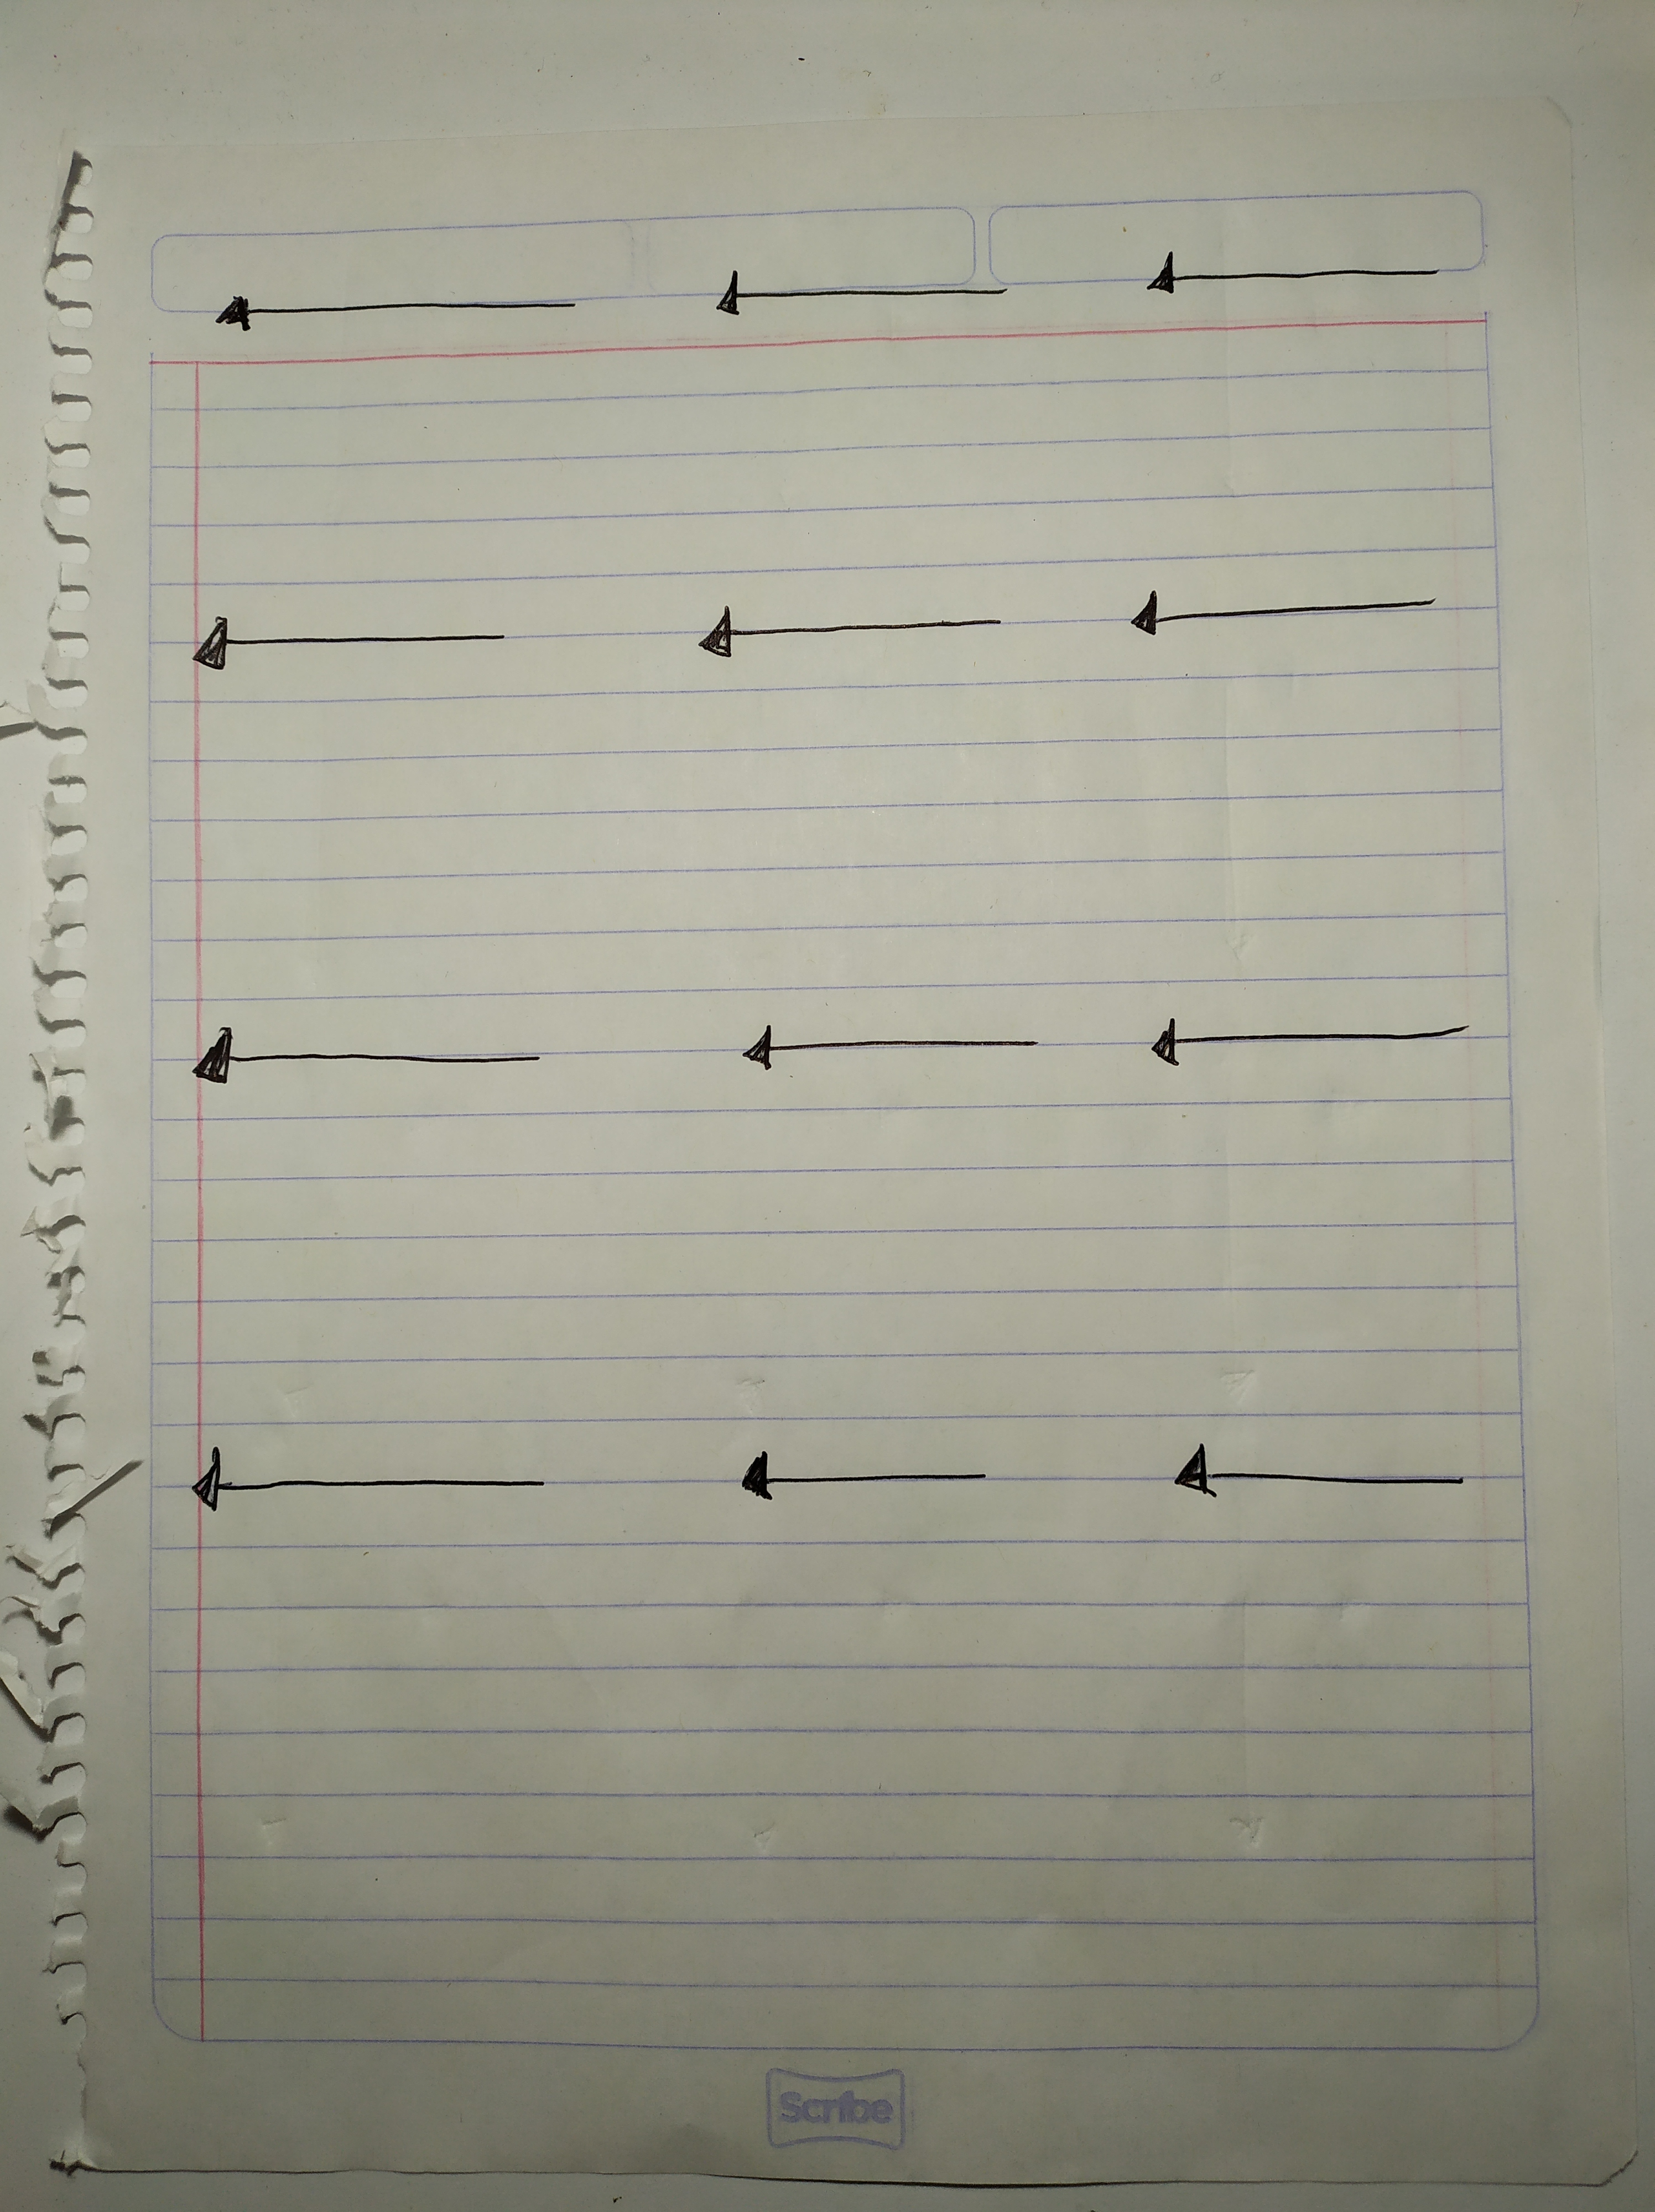arrow_line_left: (158, 1442, 579, 1533), (158, 1017, 560, 1103), (1127, 1006, 1495, 1083), (1120, 238, 1471, 315), (1153, 1434, 1486, 1513), (169, 605, 528, 678), (1106, 580, 1457, 653), (688, 250, 1038, 323), (193, 278, 586, 342), (713, 1013, 1078, 1081), (715, 1435, 1007, 1519), (675, 596, 1015, 667)
